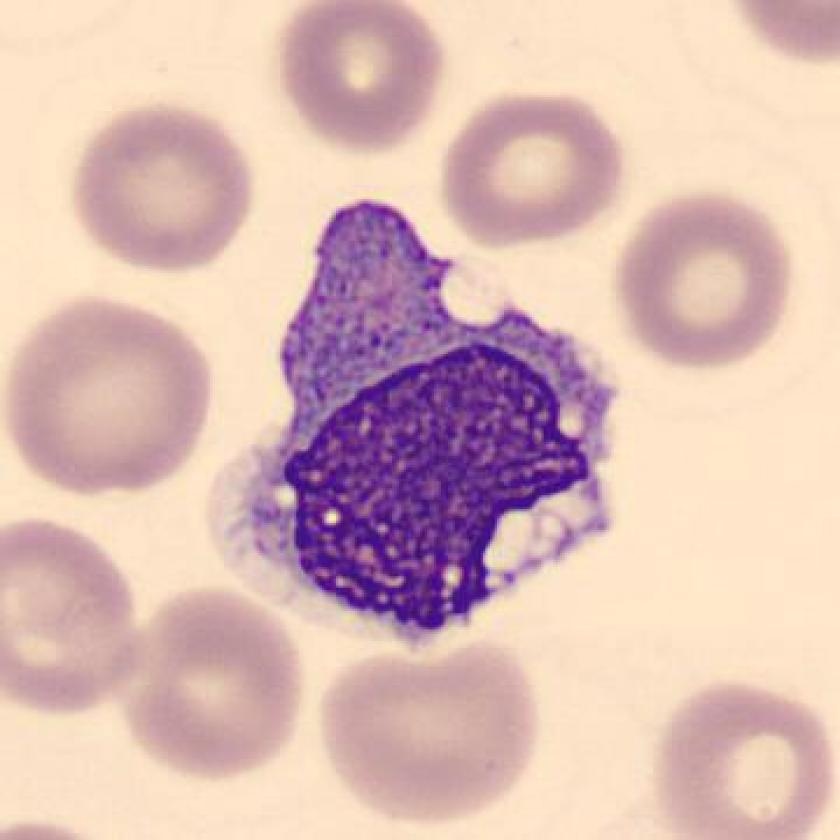monocyte: (186, 188, 641, 663)
